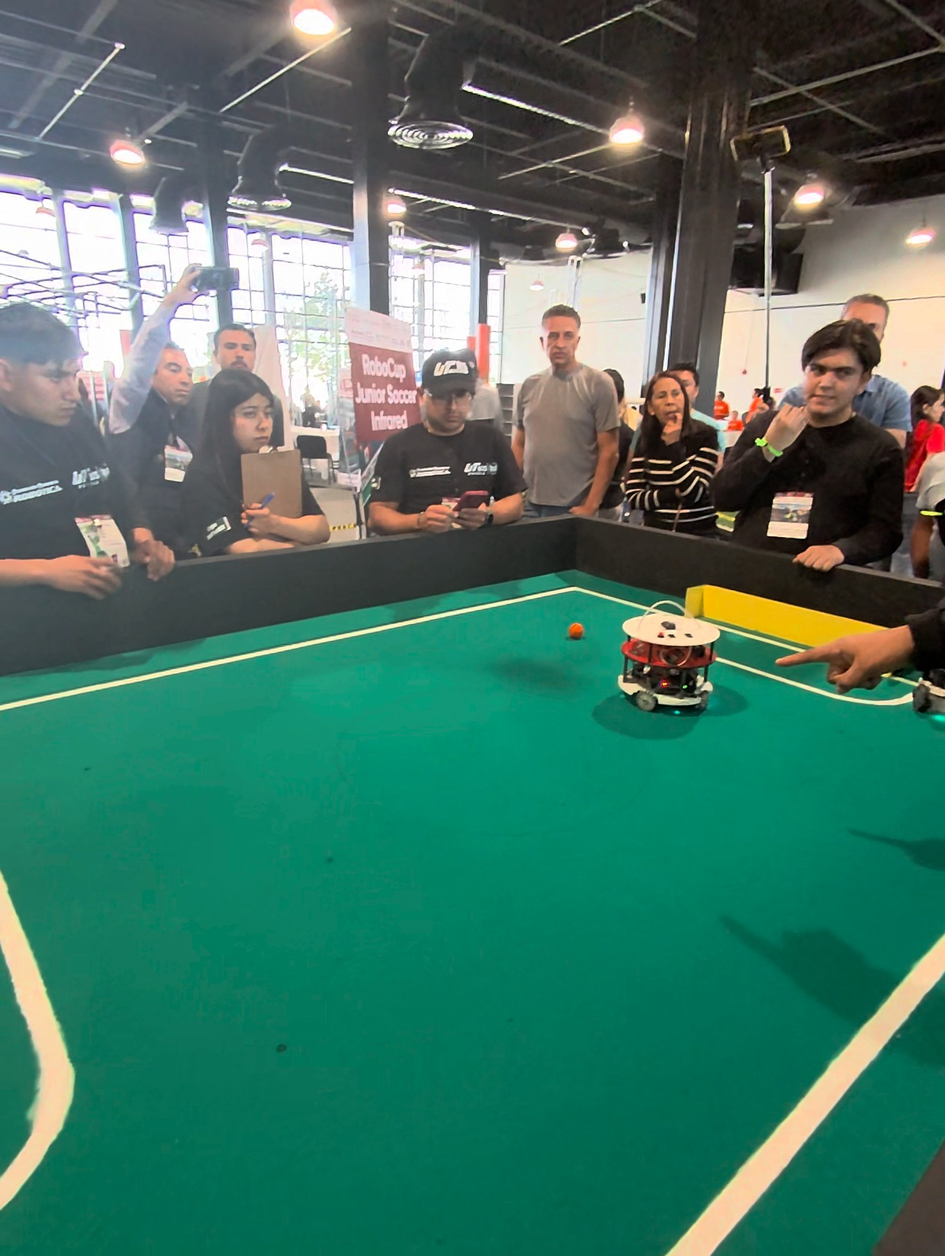Robot: (614, 589, 717, 721), (911, 612, 945, 726)
pelota: (567, 620, 584, 639)
